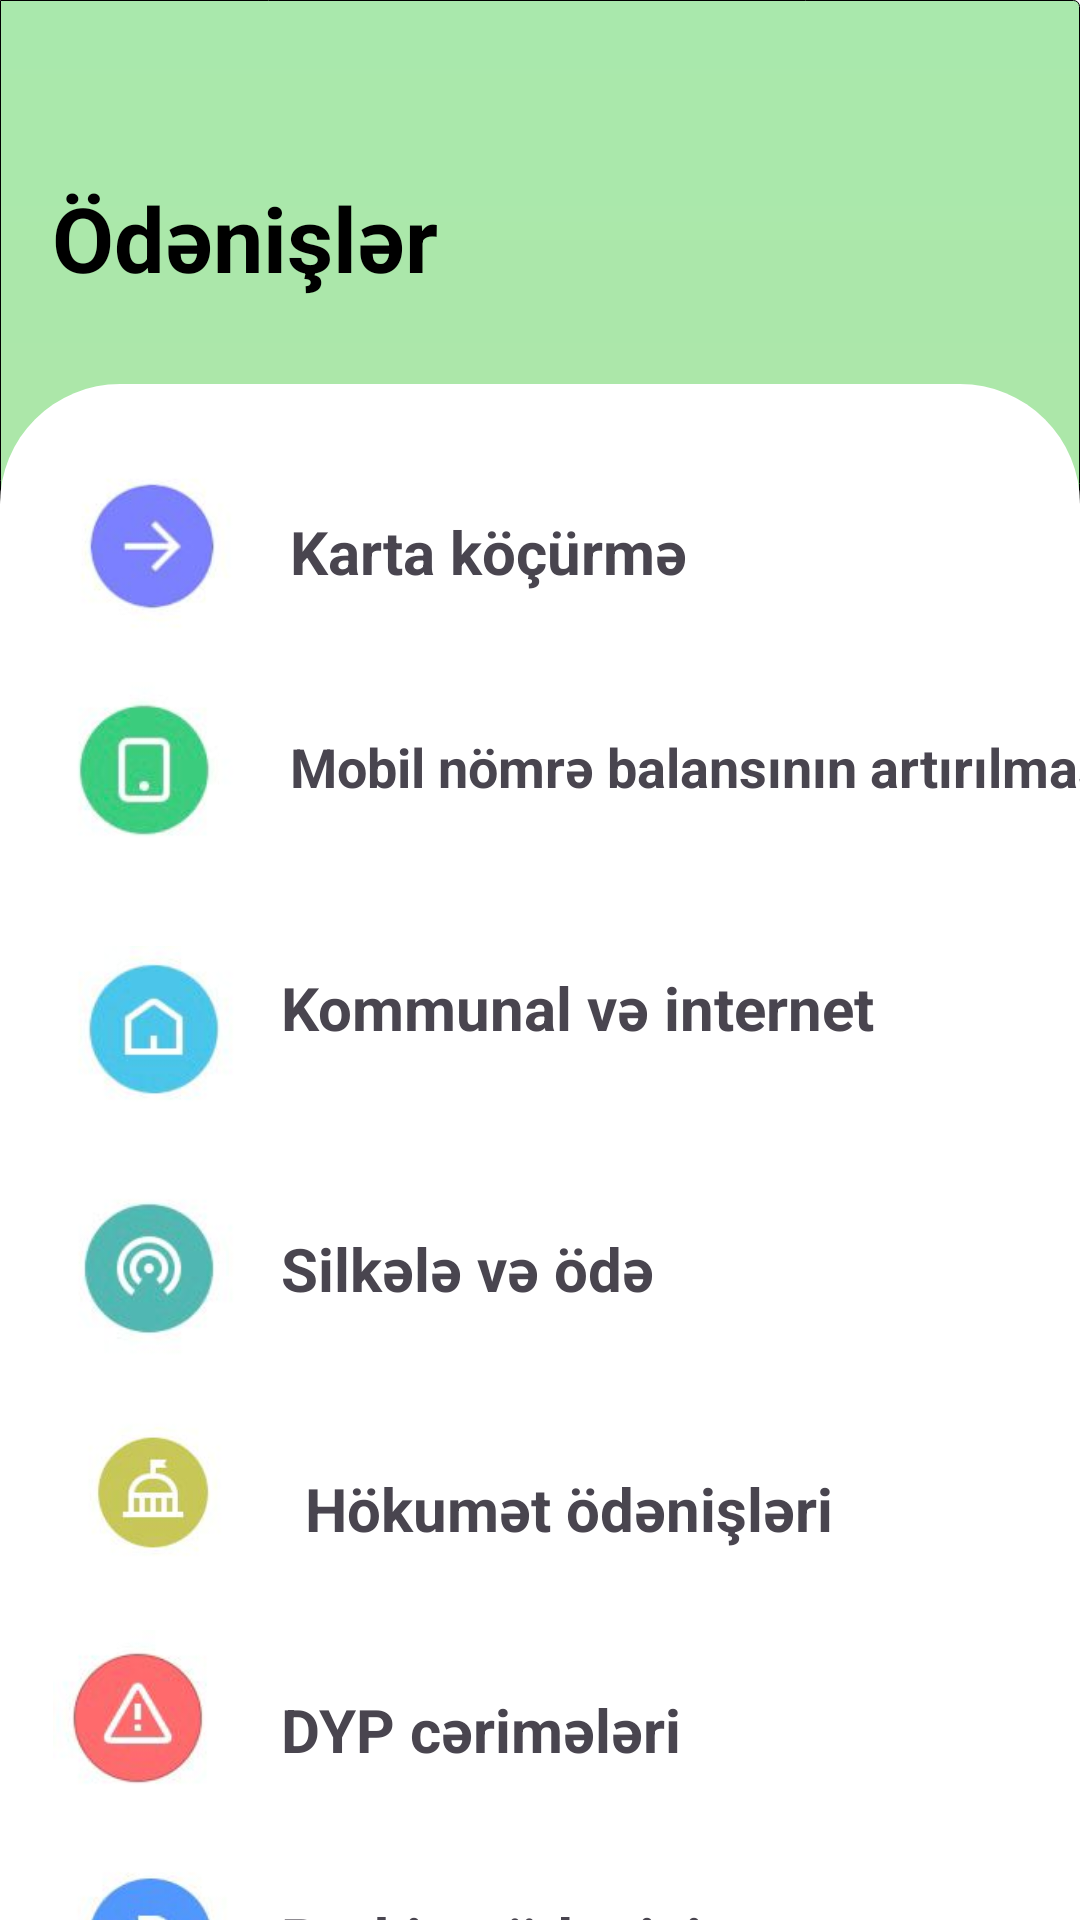

Icon click points for this 1080×1920 phone screenshot, format (x=x, y=y):
hokumet: (x=153, y=1492)
right: (x=152, y=546)
